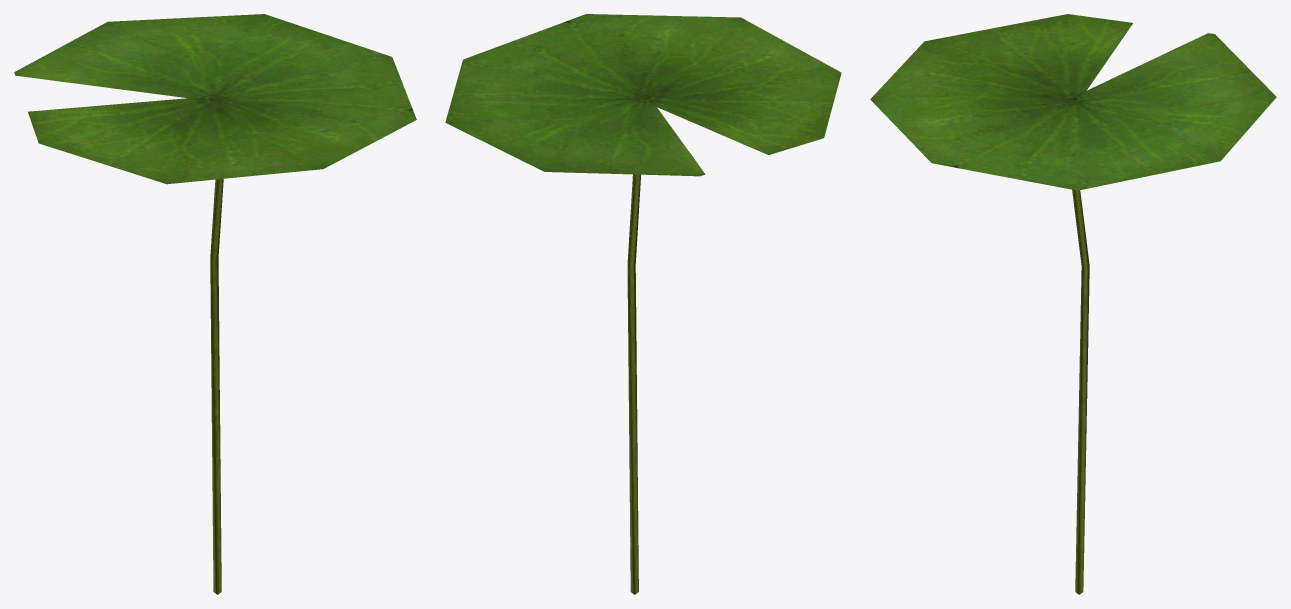
The model's file is lotusflower_01.fbx.
The picture shows the model from 3 angles, left to right: view 1: azimuth 30°, elevation 25°; view 2: azimuth 150°, elevation 25°; view 3: azimuth 270°, elevation 25°; orthographic projection.
Visible parts, largest first — view 1: lotusflower_01; view 2: lotusflower_01; view 3: lotusflower_01.
Part boxes in pixels (x1,y1,x2,y2): lotusflower_01: (14, 14, 416, 594); lotusflower_01: (445, 14, 841, 594); lotusflower_01: (870, 14, 1276, 594).
Size of the model in its own units: 1.08 by 1.45 by 1.08.
